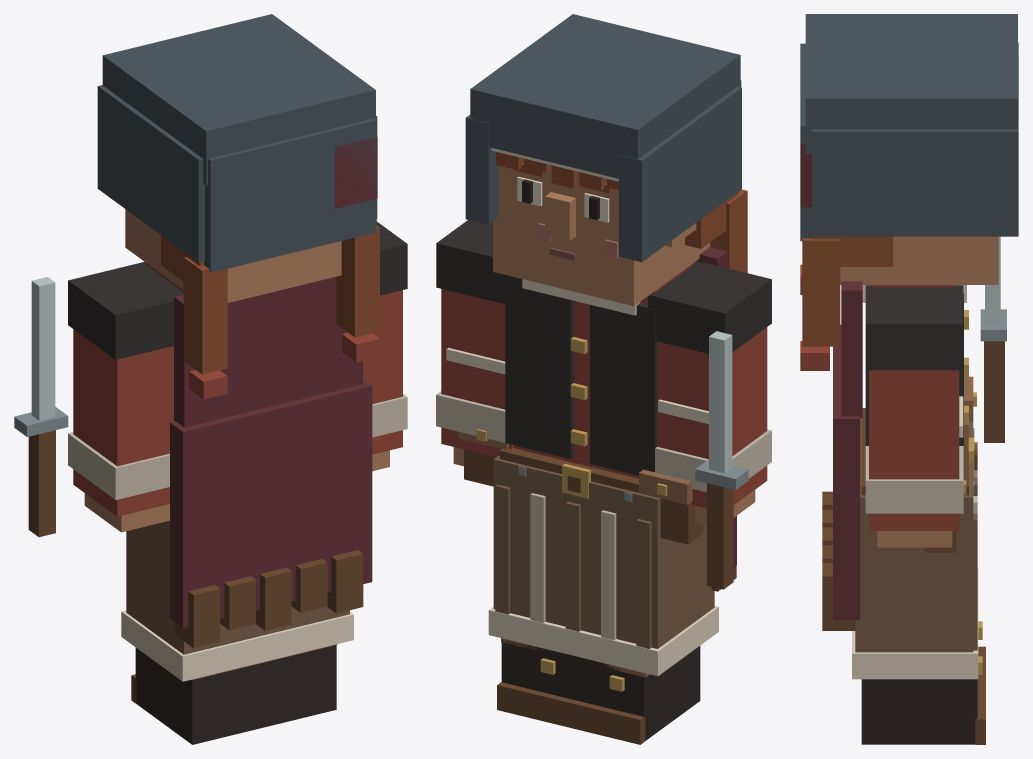
The model's file is female_rogue.obj.
3 views of the same model, side by side, from view 1: azimuth 30°, elevation 25°; view 2: azimuth 150°, elevation 25°; view 3: azimuth 270°, elevation 25° (orthographic). The views are drawn at different scales.
Parts seen in each view (by area): view 1: head, equipment_back, right_arm, body, right_leg, equipment_right, left_arm, left_leg; view 2: body, head, right_arm, left_arm, right_leg, equipment_right, left_leg, equipment_back; view 3: head, left_arm, body, equipment_back, left_leg, equipment_right.
Boxes of the visible parts, x1,y1,x2,y2 form: head: (97, 14, 380, 399); equipment_back: (170, 277, 372, 648); right_arm: (68, 262, 183, 532); body: (121, 263, 353, 681); right_leg: (131, 647, 266, 744); equipment_right: (14, 277, 68, 537); left_arm: (363, 221, 407, 471); left_leg: (261, 644, 337, 726); body: (458, 262, 718, 676); head: (465, 14, 747, 306); right_arm: (648, 261, 771, 525); left_arm: (436, 220, 513, 466); right_leg: (566, 646, 700, 744); equipment_right: (695, 331, 748, 589); left_leg: (497, 638, 574, 726); equipment_back: (696, 247, 736, 591); head: (800, 14, 1018, 370); left_arm: (865, 285, 963, 547); body: (852, 285, 978, 679); equipment_back: (822, 281, 862, 630); left_leg: (861, 656, 985, 744); equipment_right: (980, 236, 1006, 442).
Bounding box in the file's own units: 1.14 × 2.13 × 0.6469.
